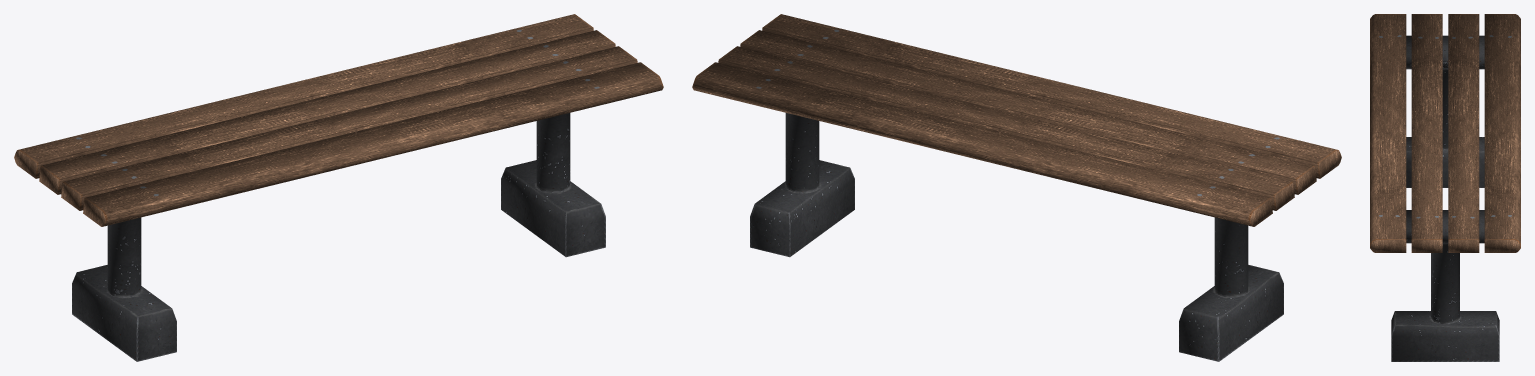
File: BenchSimple01.fbx
The picture shows the model from 3 angles, left to right: view 1: azimuth 30°, elevation 25°; view 2: azimuth 150°, elevation 25°; view 3: azimuth 270°, elevation 25°; orthographic projection. The views are drawn at different scales.
Parts seen in each view (by area): view 1: geo_bench01; view 2: geo_bench01; view 3: geo_bench01.
Part boxes in pixels (x1,y1,x2,y2): geo_bench01: (14, 14, 663, 361); geo_bench01: (692, 14, 1341, 361); geo_bench01: (1370, 14, 1520, 361).
Size of the model in its own units: 191 by 55 by 53.74.
Materials: 1 (1 with a texture image).
